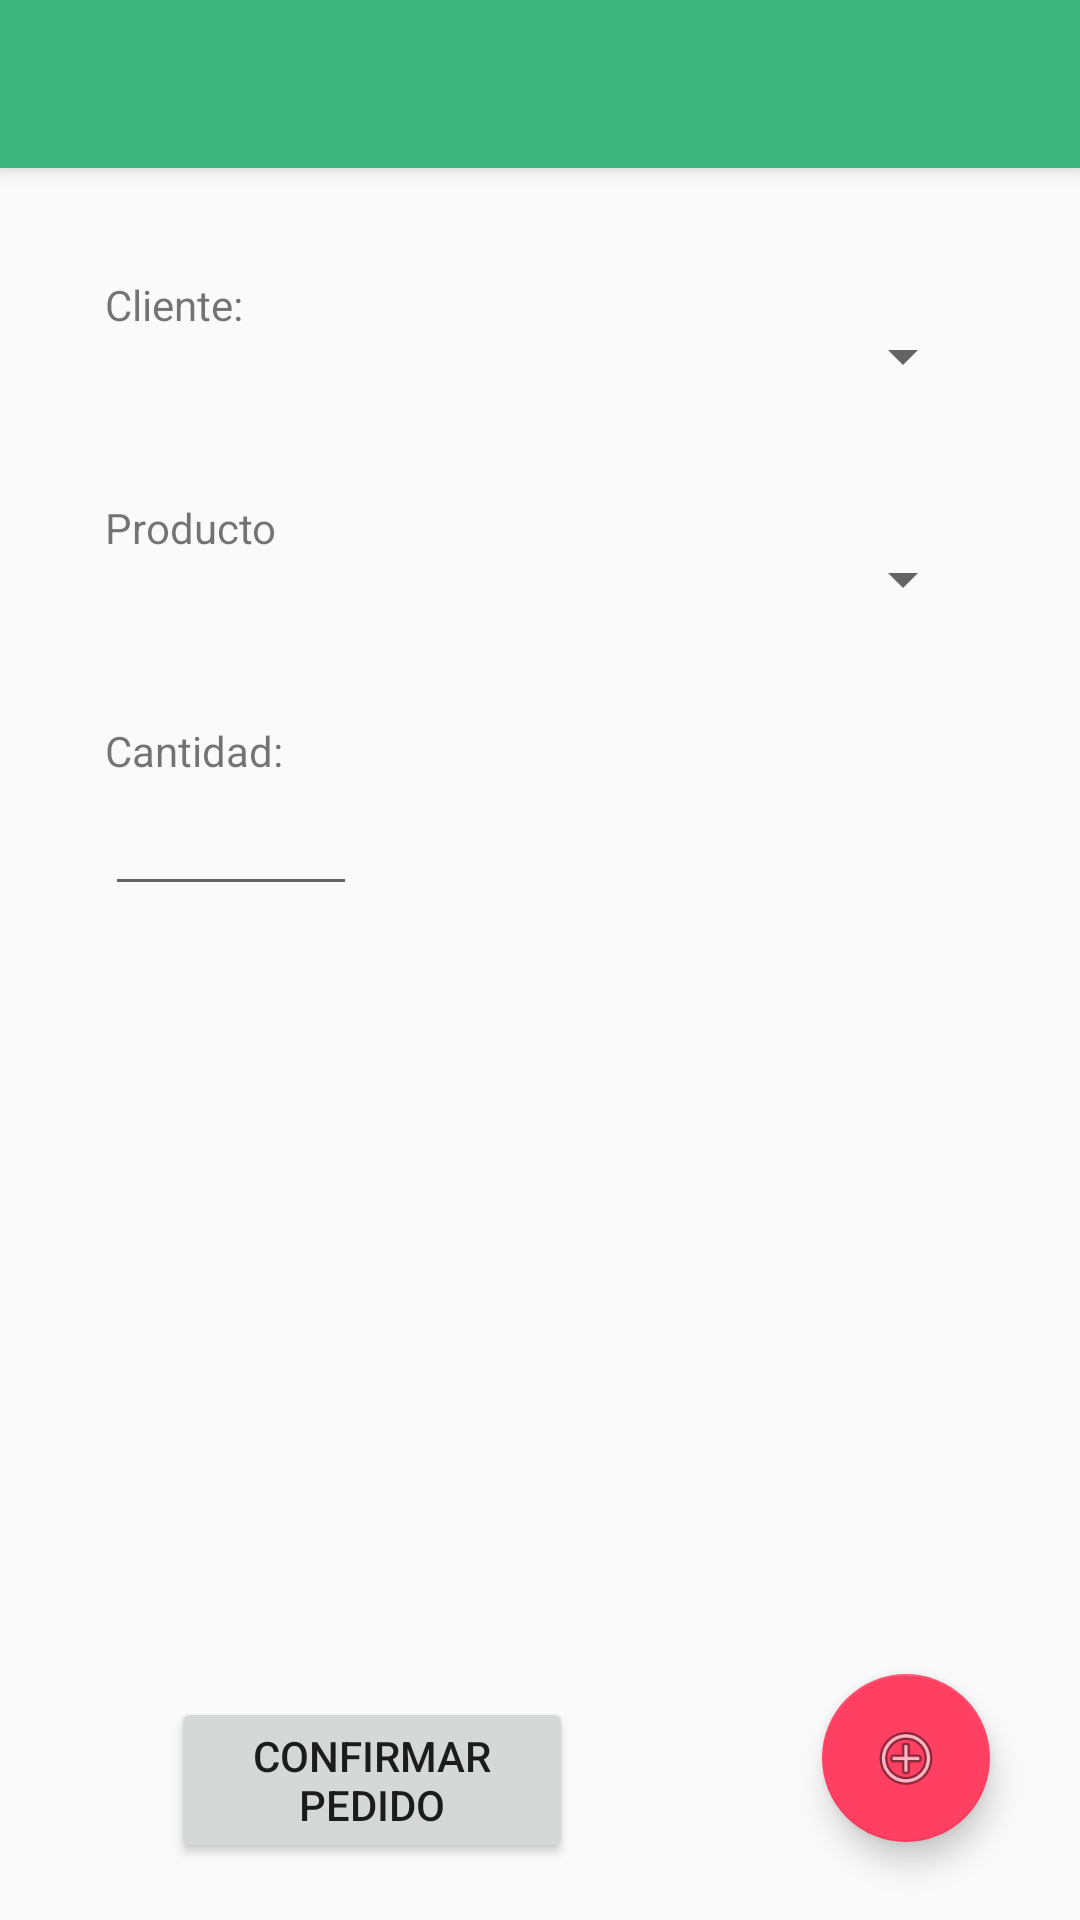

Icon bounding boxes for this 1080×1920 phone screenshot, format (x1, y1, x2, y2):
add: (822, 1674, 990, 1842)
